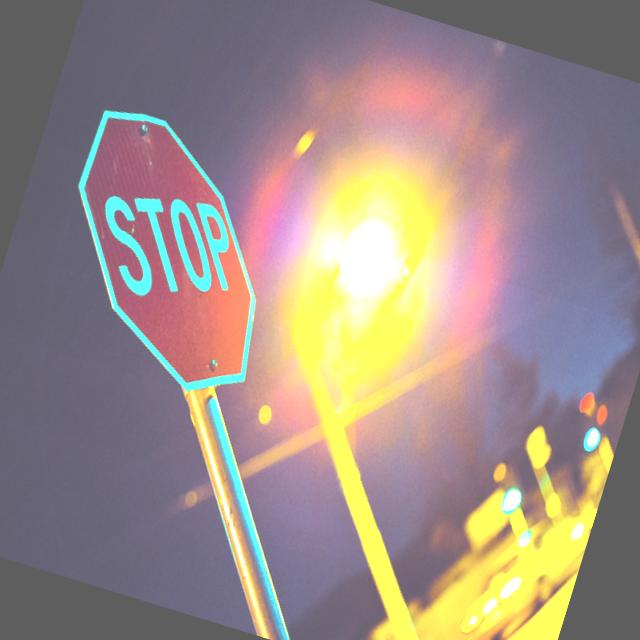Vehicle: (453, 477, 597, 640)
